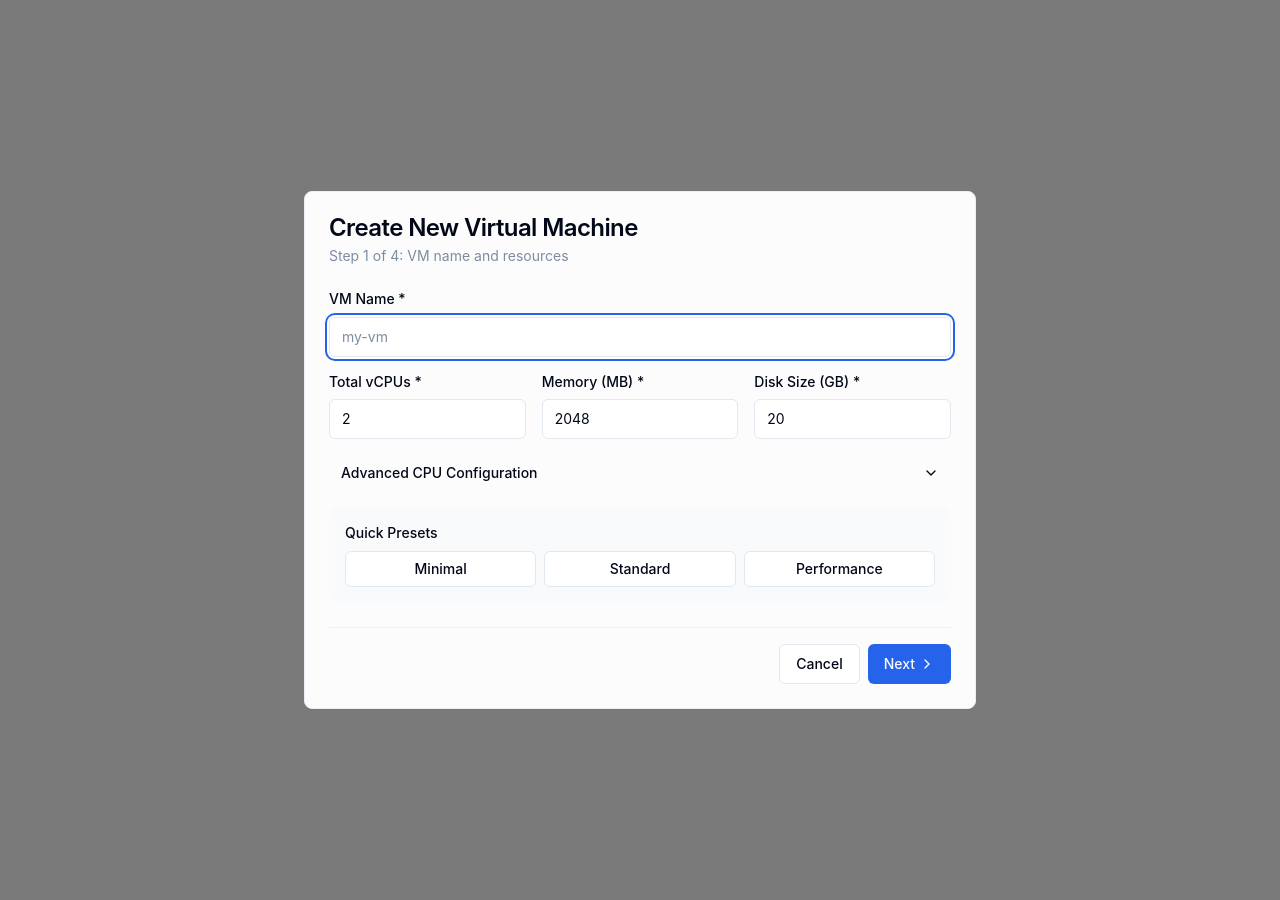
it: CreateVmWizard storage onboarding › shows connection-owned storage recovery instead of assuming a default pool
In the field labelled "VM Name *": coordinates (640, 336) [329, 316, 951, 356], type "fixture-vm"
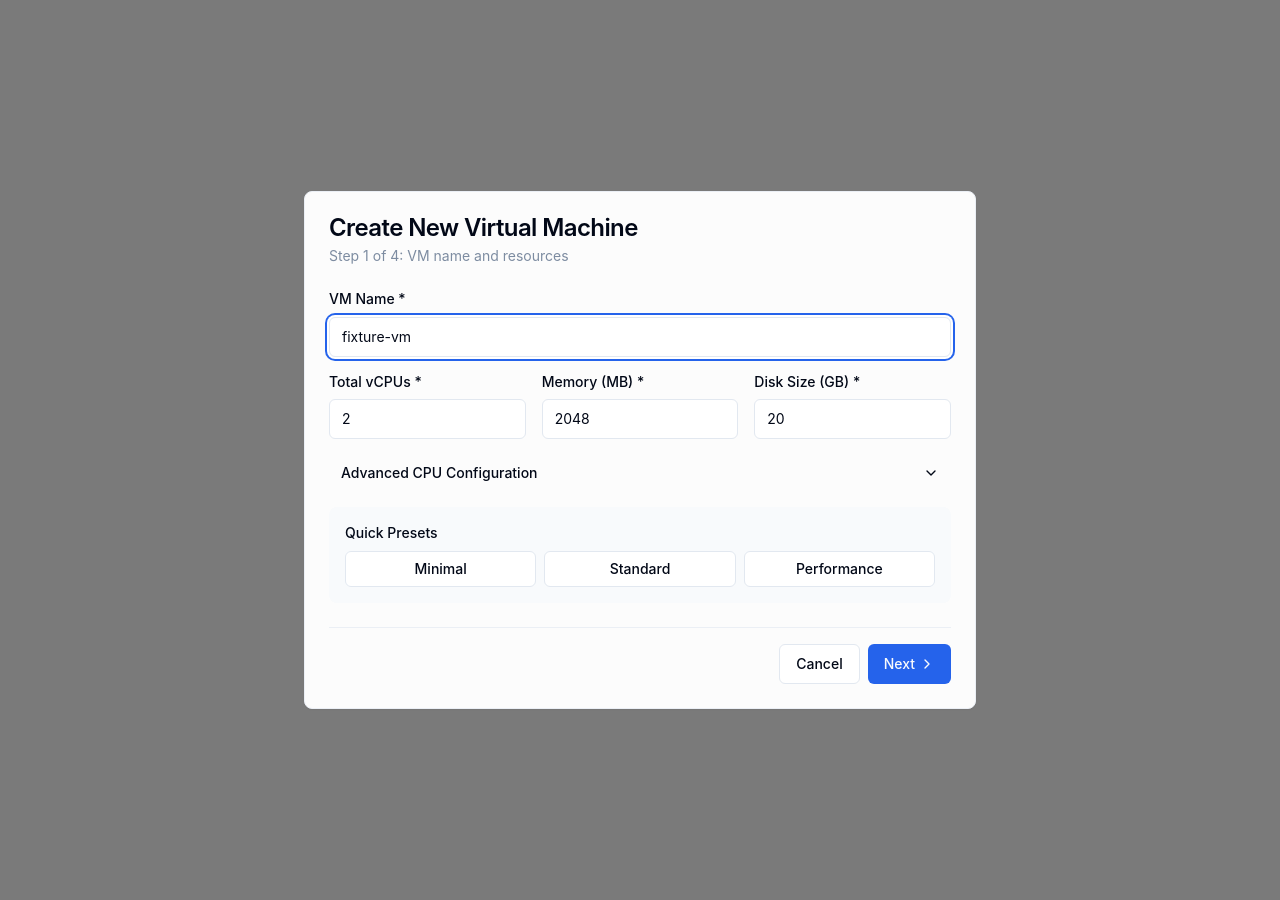
Click the button "Next": coordinates (909, 664) [868, 644, 951, 684]
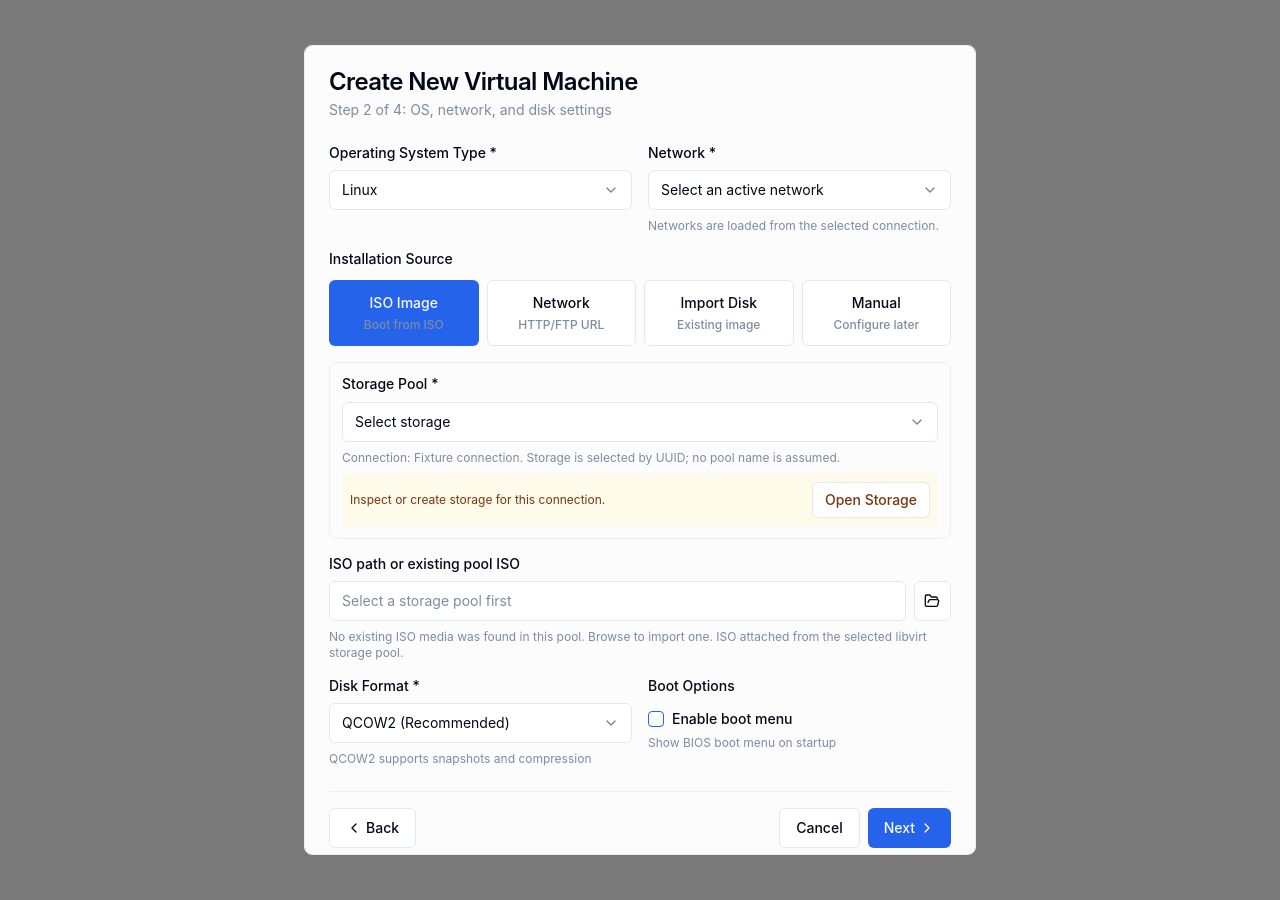
Check: the text "Fixture connection" is shown, box [414, 450, 520, 465]
Check: the text "Inspect or create storage for this connection." is shown, box [350, 492, 605, 508]
Check: the button "Open Storage" is shown, box [812, 482, 930, 518]
